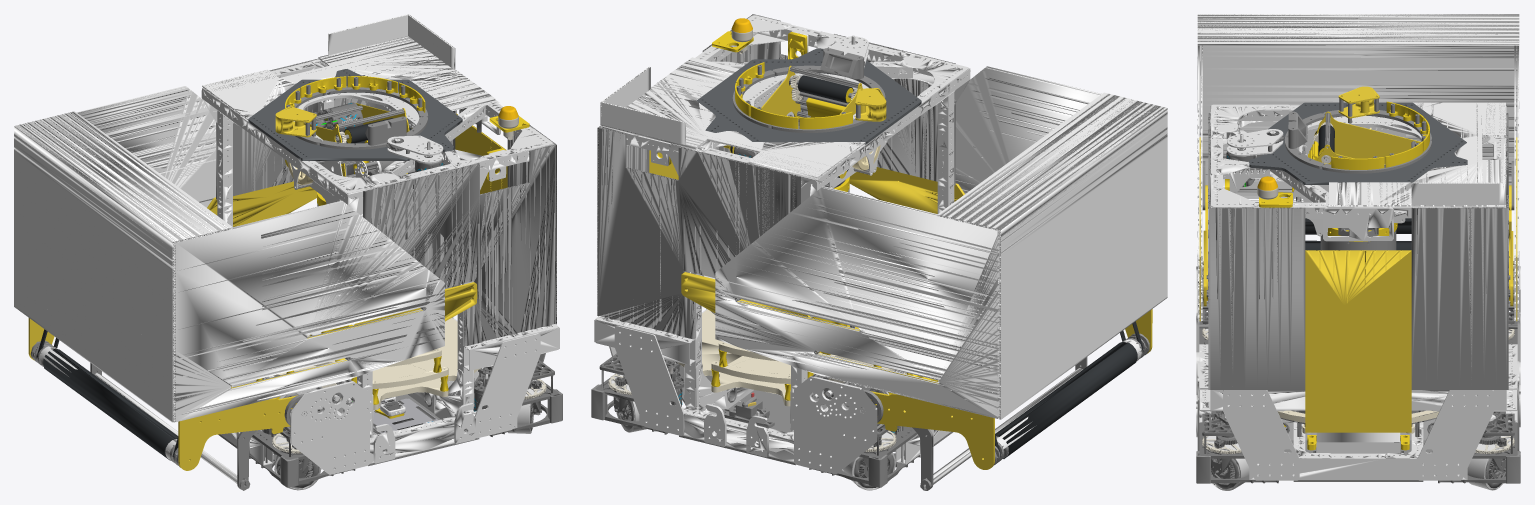
Rendered from toploader-604.glb.
3 views of the same model, side by side, from view 1: azimuth 30°, elevation 25°; view 2: azimuth 150°, elevation 25°; view 3: azimuth 270°, elevation 25° (orthographic). The views are drawn at different scales.
Parts seen in each view (by area): view 1: hopper-slide, frame, intake, turret, hood; view 2: hopper-slide, frame, intake, turret, hood; view 3: frame, hopper-slide, turret, hood, intake, serializer.
Part boxes in pixels (x1,y1,x2,y2): hopper-slide: (14,86,444,422); frame: (201,14,562,490); intake: (28,318,299,490); turret: (275,76,428,203); hood: (303,102,412,177); hopper-slide: (715,66,1167,419); frame: (591,14,970,490); intake: (867,309,1152,490); turret: (732,48,887,188); hood: (723,65,862,157); frame: (1196,102,1520,490); hopper-slide: (1197,14,1519,321); turret: (1284,86,1432,236); hood: (1308,111,1420,164); intake: (1202,161,1514,316); serializer: (1320,223,1397,250).
Size of the model in its own units: 0.9827 by 0.7493 by 0.6985.
